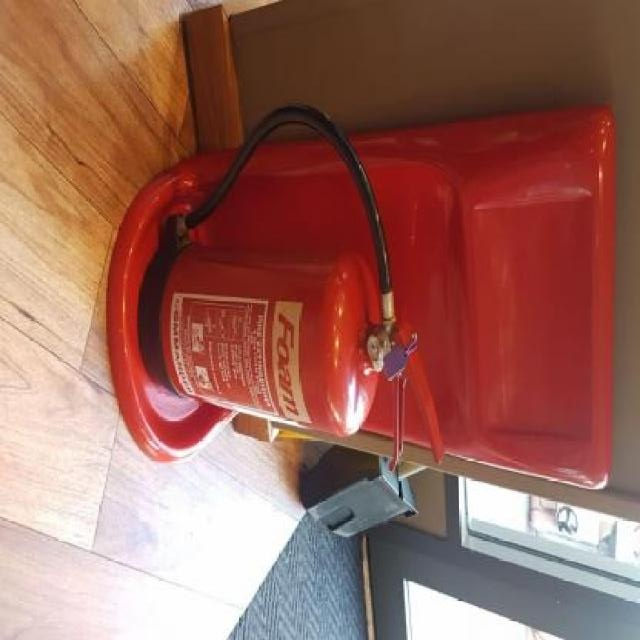fire extinguisher: (134, 100, 443, 472)
